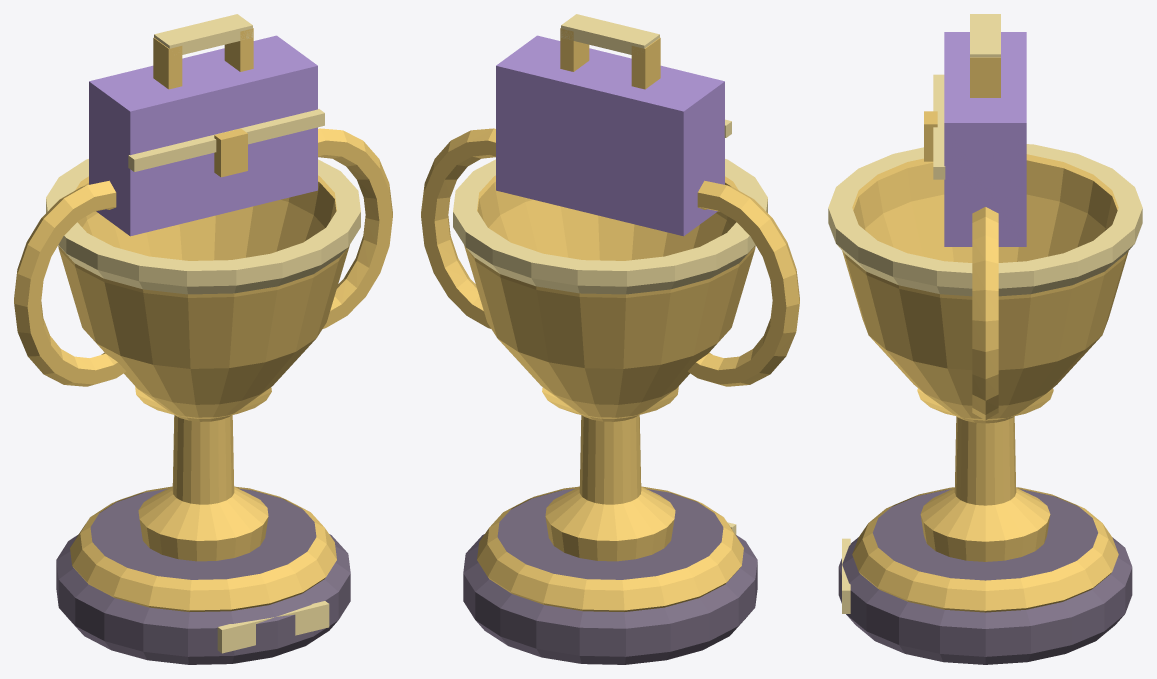
Rendered from work.glb.
3 renders of one model, left to right at view 1: azimuth 30°, elevation 25°; view 2: azimuth 150°, elevation 25°; view 3: azimuth 270°, elevation 25°, orthographic.
Bounding box in the file's own units: 1.27 × 1.85 × 0.92.
